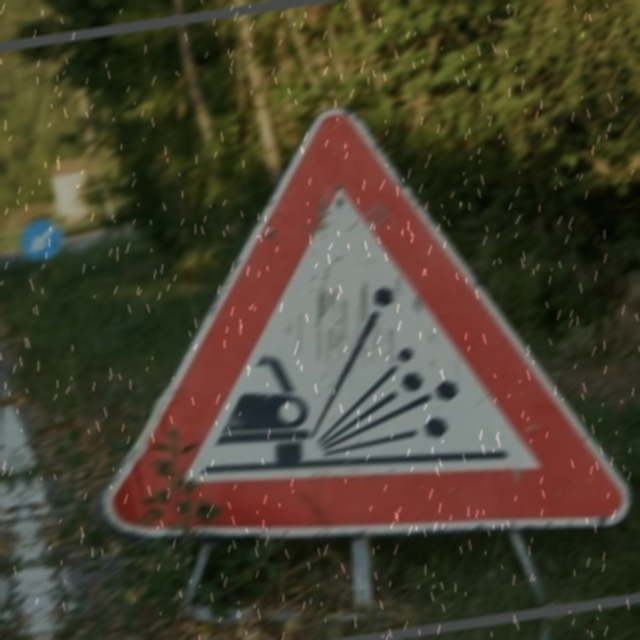Loose_Gravel: (72, 84, 595, 572)
